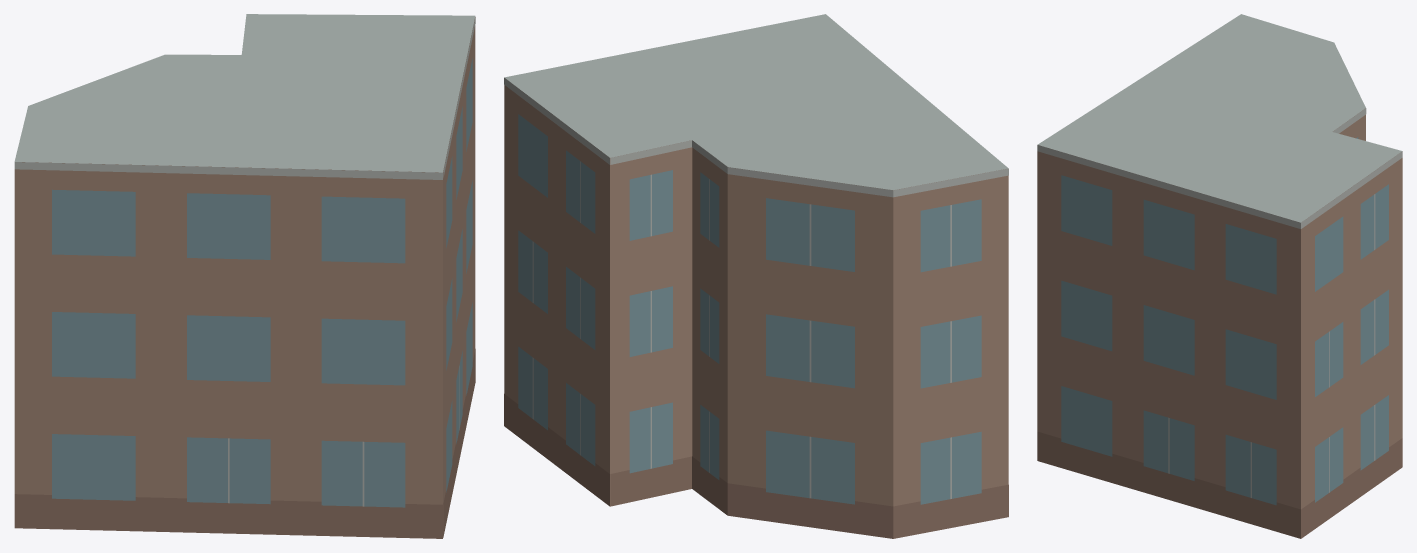
Rendered from survey-upis-32812279.glb.
3 renders of one model, left to right at view 1: azimuth 30°, elevation 25°; view 2: azimuth 150°, elevation 25°; view 3: azimuth 270°, elevation 25°, orthographic. The views are drawn at different scales.
Visible parts, largest first — view 1: survey-upis-32812279.tmp; view 2: survey-upis-32812279.tmp; view 3: survey-upis-32812279.tmp.
Part boxes in pixels (box(x1,y1,x2,y2)): survey-upis-32812279.tmp: box(14, 14, 475, 538); survey-upis-32812279.tmp: box(504, 14, 1008, 538); survey-upis-32812279.tmp: box(1037, 14, 1402, 538).
Size of the model in its own units: 16.86 by 11.9 by 12.47.
